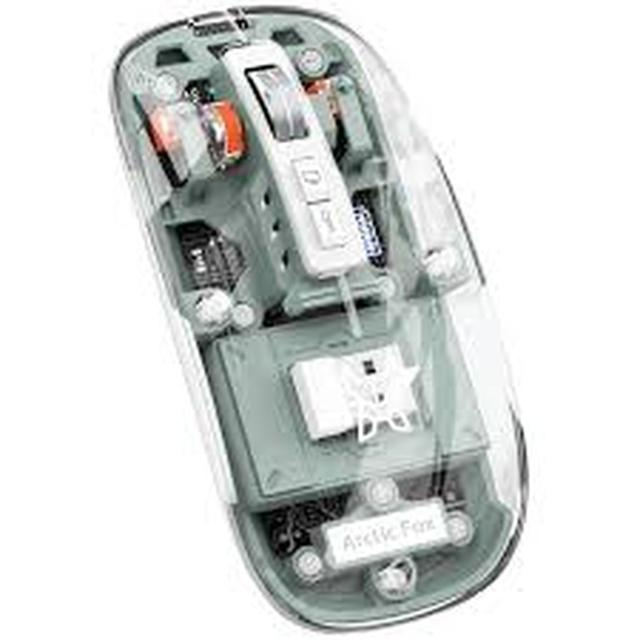mouse: (105, 17, 532, 631)
